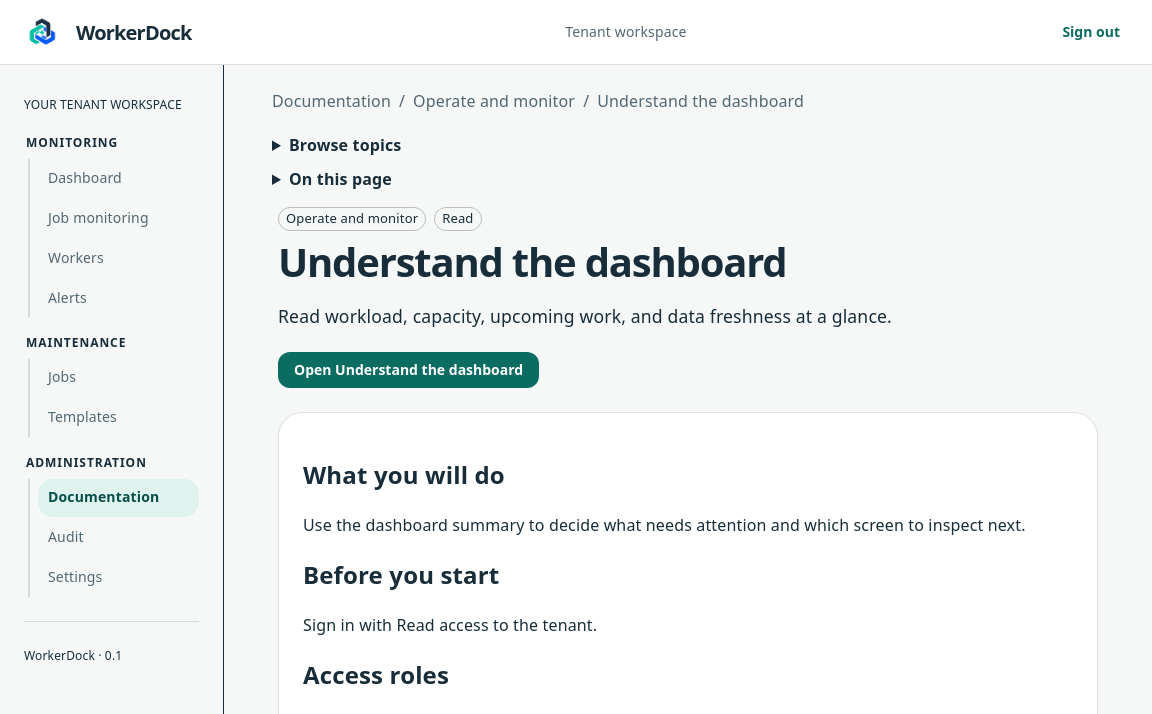
Test: viewer opens a deep-linked documentation topic with Documentation selected and contextual help
Expected: the heading "Understand the dashboard" is shown, [278,234,786,289]
Expected: the link "Documentation" below "Administration" is shown, [38,479,199,517]
Click the link "Settings".
click(75, 577)  # box [48,567,102,586]
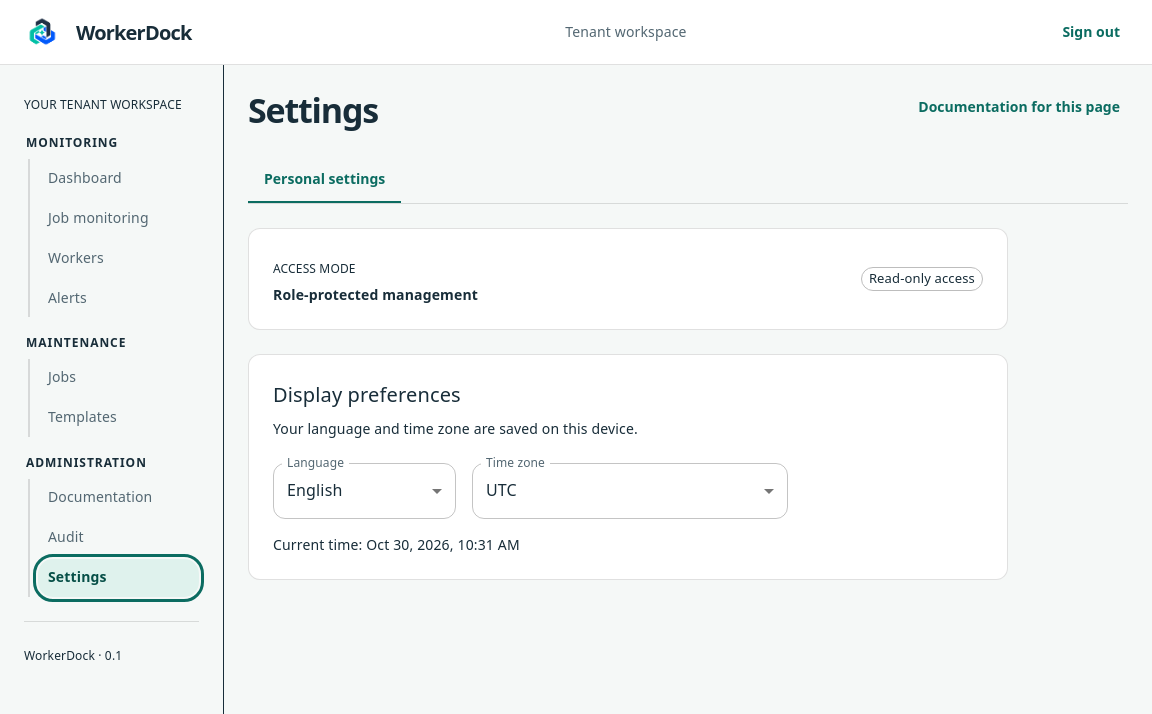
Select "Português (Brasil)" in the dropdown labelled "Language" at [364, 491], box [273,463,456,519]
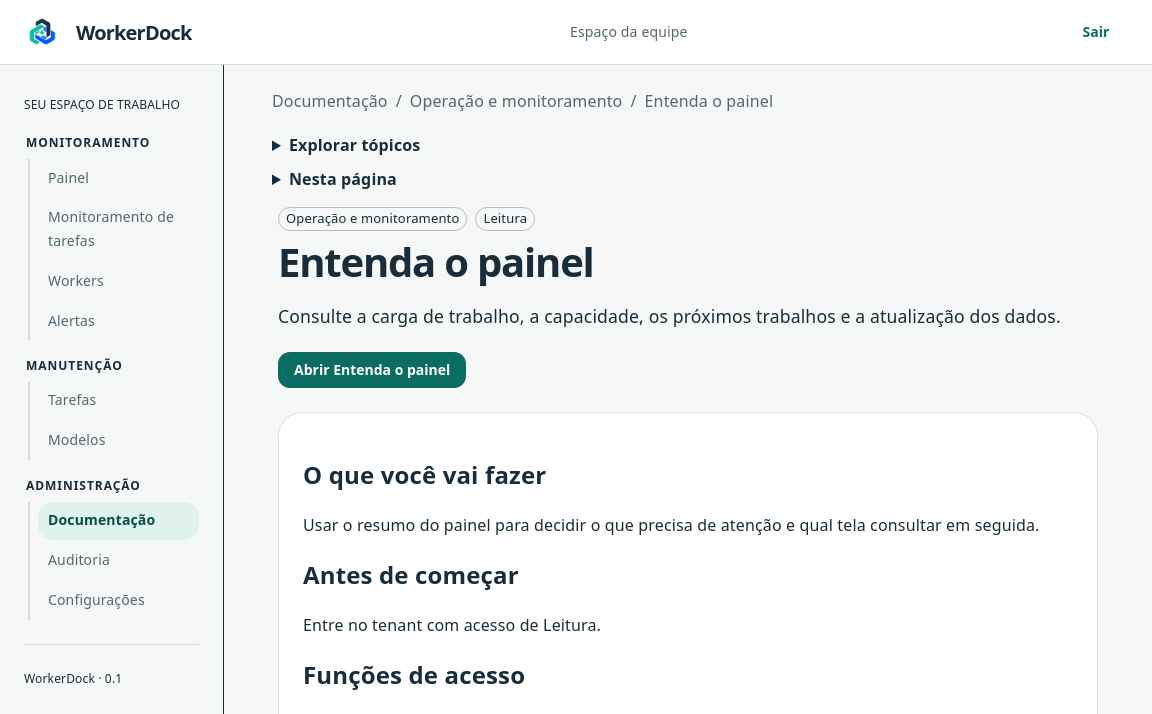
Now the heading "Entenda o painel" is shown, box [278,234,594,289]
